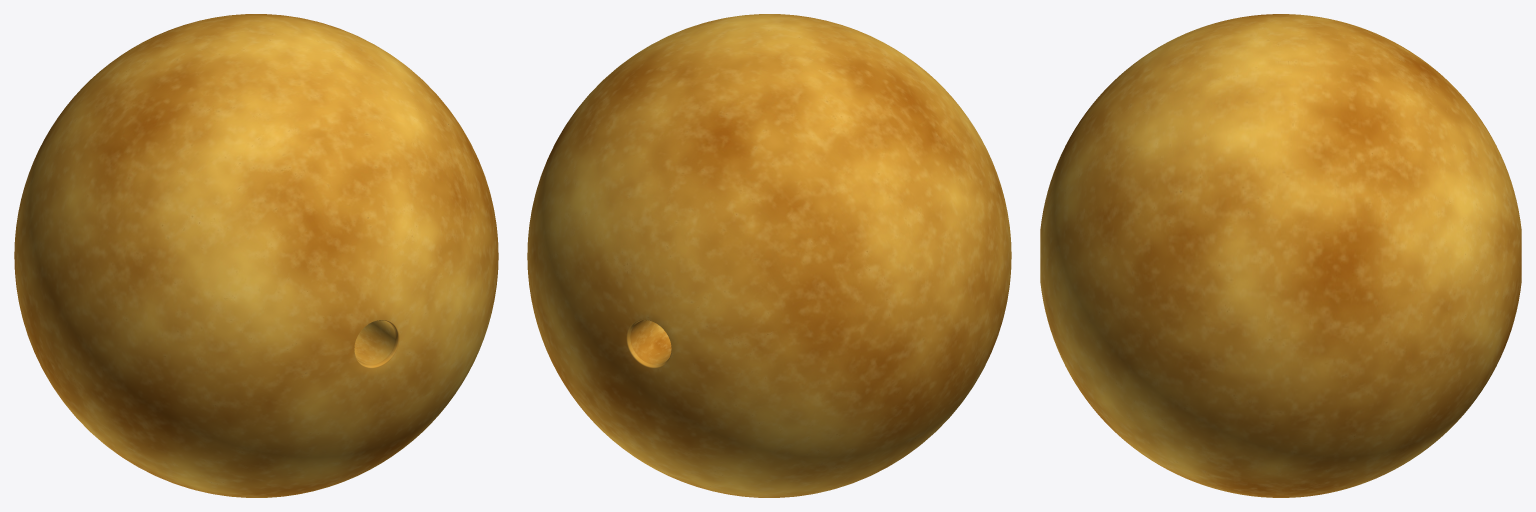
The model's file is yellow-aventurine-10mm.glb.
The picture shows the model from 3 angles, left to right: view 1: azimuth 30°, elevation 25°; view 2: azimuth 150°, elevation 25°; view 3: azimuth 270°, elevation 25°; orthographic projection.
Visible parts, largest first — view 1: yellow-aventurine.001; view 2: yellow-aventurine.001; view 3: yellow-aventurine.001.
Boxes of the visible parts, x1=… form: yellow-aventurine.001: x1=14, y1=14, x2=498, y2=497; yellow-aventurine.001: x1=527, y1=14, x2=1011, y2=497; yellow-aventurine.001: x1=1040, y1=14, x2=1521, y2=497.
Bounding box in the file's own units: 0.01 × 0.01 × 0.00994.
2 materials, 1 textured.
